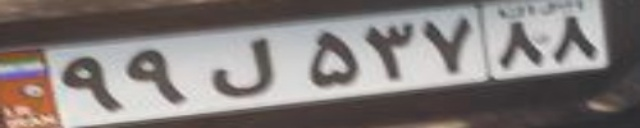3: (363, 22, 413, 82)
5: (309, 30, 361, 89)
7: (421, 14, 470, 76)
8: (550, 14, 600, 64), (496, 19, 542, 70)
9: (58, 56, 119, 111), (125, 48, 183, 105)
lam: (210, 34, 275, 97)
